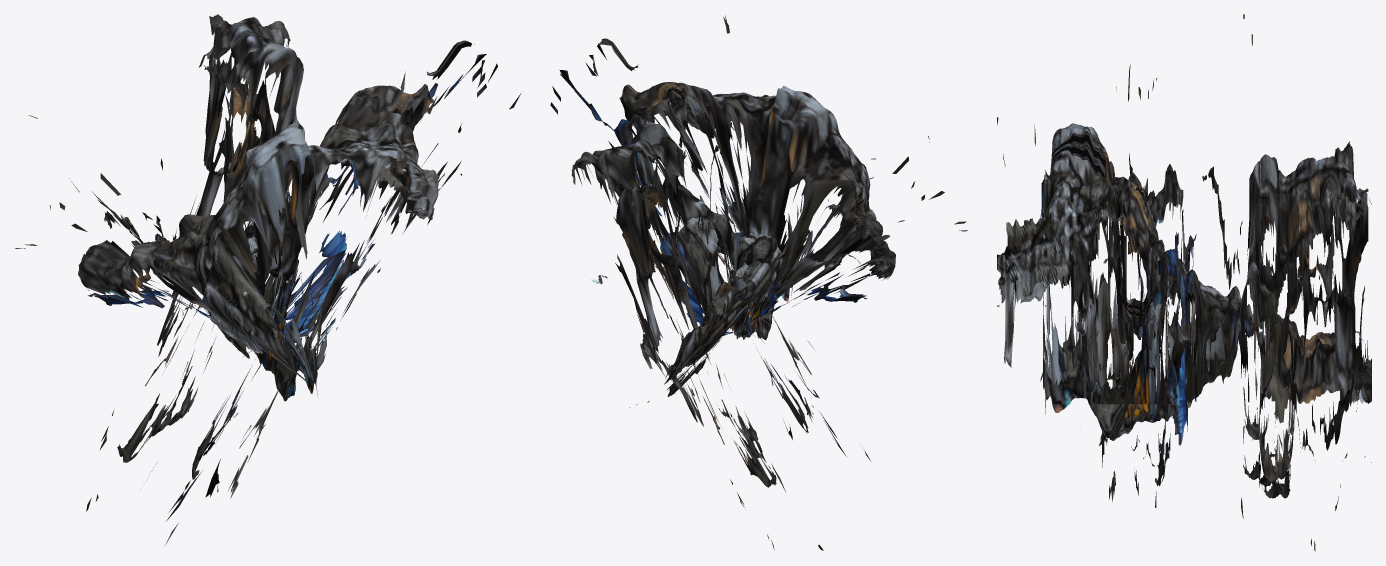
3 views of the same model, side by side, from view 1: azimuth 30°, elevation 25°; view 2: azimuth 150°, elevation 25°; view 3: azimuth 270°, elevation 25° (orthographic). The views are drawn at different scales.
Visible parts, largest first — view 1: geometry_0; view 2: geometry_0; view 3: geometry_0.
Part boxes in pixels (x1,y1,x2,y2): geometry_0: [15, 14, 521, 546]; geometry_0: [550, 15, 967, 550]; geometry_0: [997, 14, 1371, 551].
Size of the model in its own units: 1.49 by 1.48 by 0.9335.
1 material, 1 textured.
